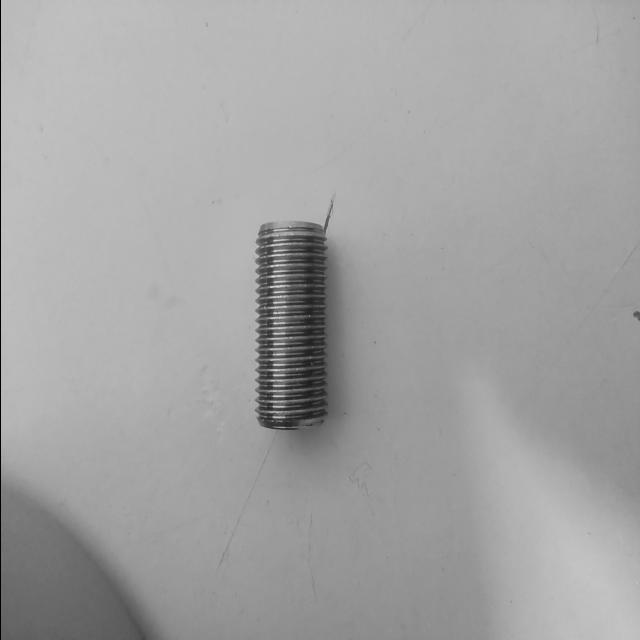Normal: (252, 218, 328, 435)
